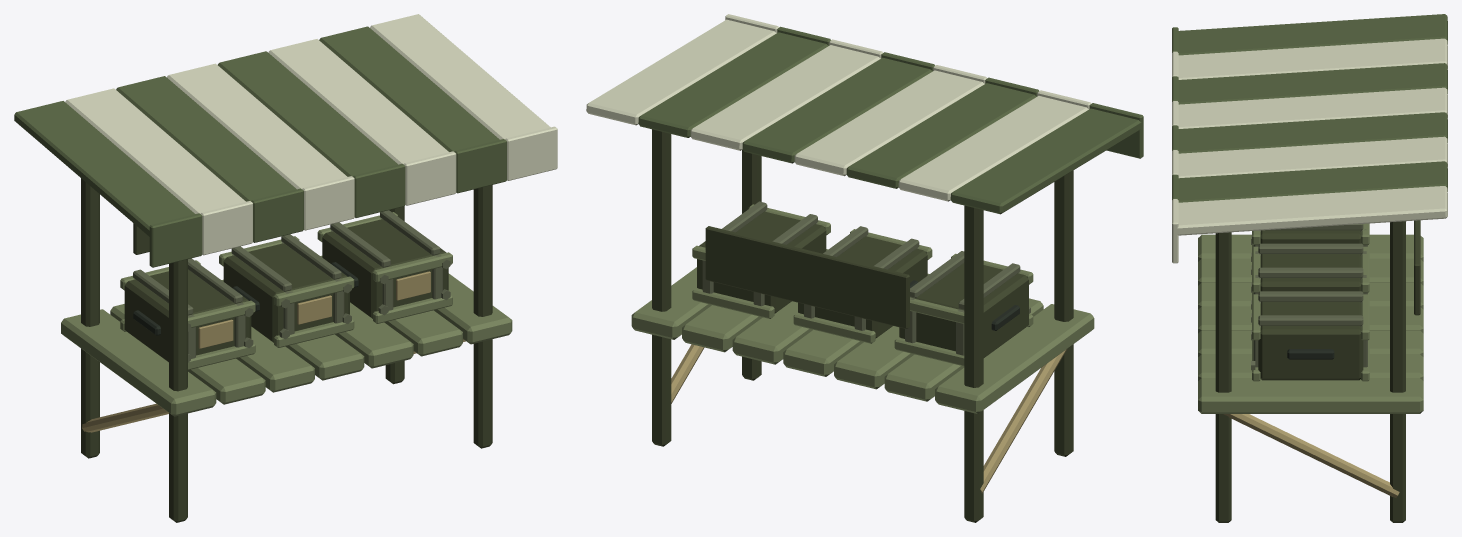
Rendered from market_stall.obj.
3 views of the same model, side by side, from view 1: azimuth 30°, elevation 25°; view 2: azimuth 150°, elevation 25°; view 3: azimuth 270°, elevation 25° (orthographic). The views are drawn at different scales.
Visible parts, largest first — view 1: market_stall; view 2: market_stall; view 3: market_stall.
Boxes of the visible parts, x1=… form: market_stall: x1=14, y1=14, x2=557, y2=522; market_stall: x1=586, y1=14, x2=1143, y2=522; market_stall: x1=1172, y1=14, x2=1447, y2=522.
Size of the model in its own units: 2.88 by 2.29 by 1.71.
Materials: 1 (1 with a texture image).
